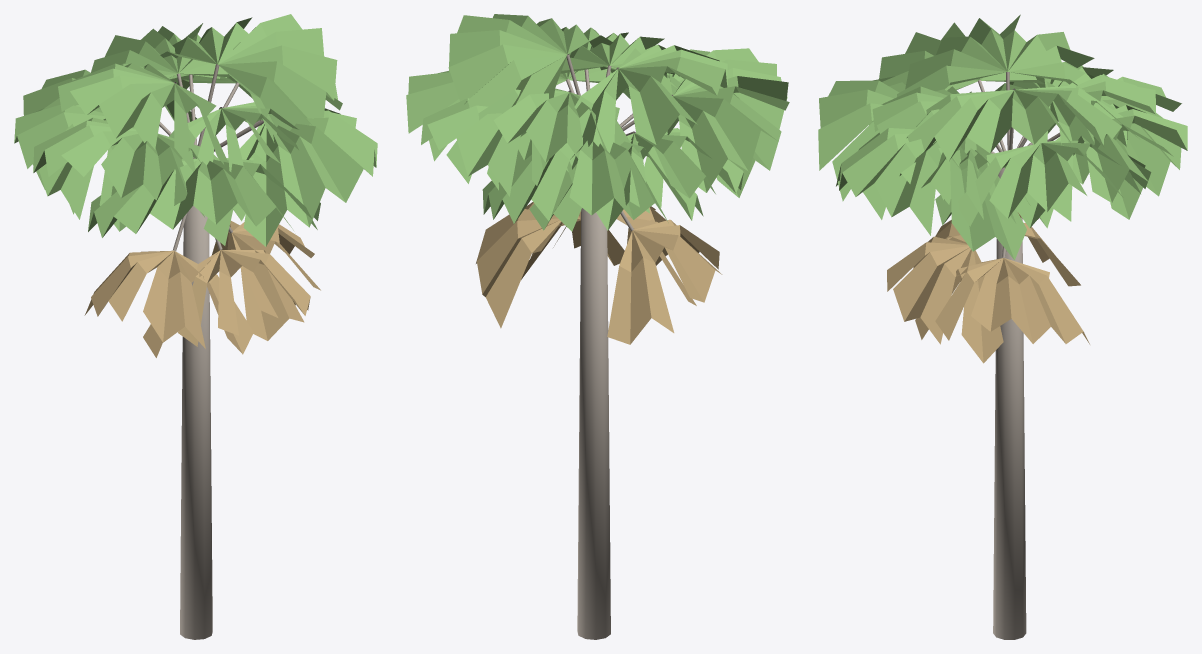
Rendered from buriti_b.glb.
The picture shows the model from 3 angles, left to right: view 1: azimuth 30°, elevation 25°; view 2: azimuth 150°, elevation 25°; view 3: azimuth 270°, elevation 25°; orthographic projection. The views are drawn at different scales.
Visible parts, largest first — view 1: buriti_b; view 2: buriti_b; view 3: buriti_b.
Boxes of the visible parts, bbox=[...] form: buriti_b: bbox=[14, 14, 377, 639]; buriti_b: bbox=[406, 14, 789, 639]; buriti_b: bbox=[818, 14, 1187, 639].
Bounding box in the file's own units: 7.02 × 12.27 × 7.16.
